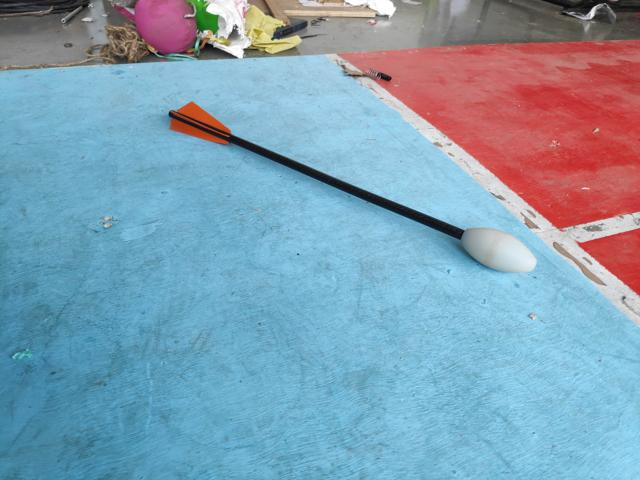Head: (458, 225, 538, 273)
Tail: (166, 97, 235, 147)
